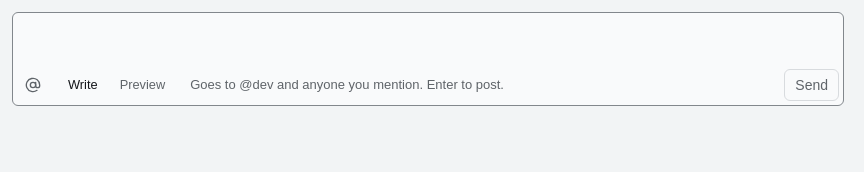
Scenario: reply puts the mention at the start once and focuses
This screenshot has width=864, height=172.
Type "thanks" into the dropdown named "Comment" at x=428, y=41, box [13,13,843,69]
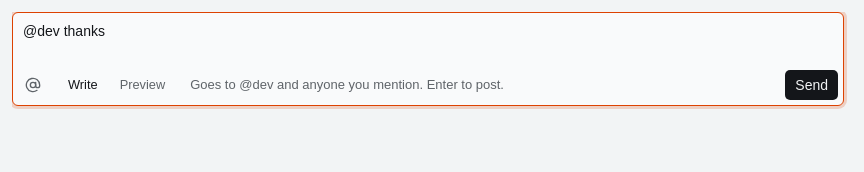
Now the dropdown named "Comment" holds "@dev thanks", box [13,13,843,69]
